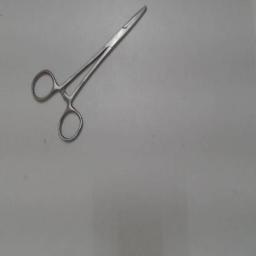Mayo Needle Holder: (26, 2, 156, 148)
